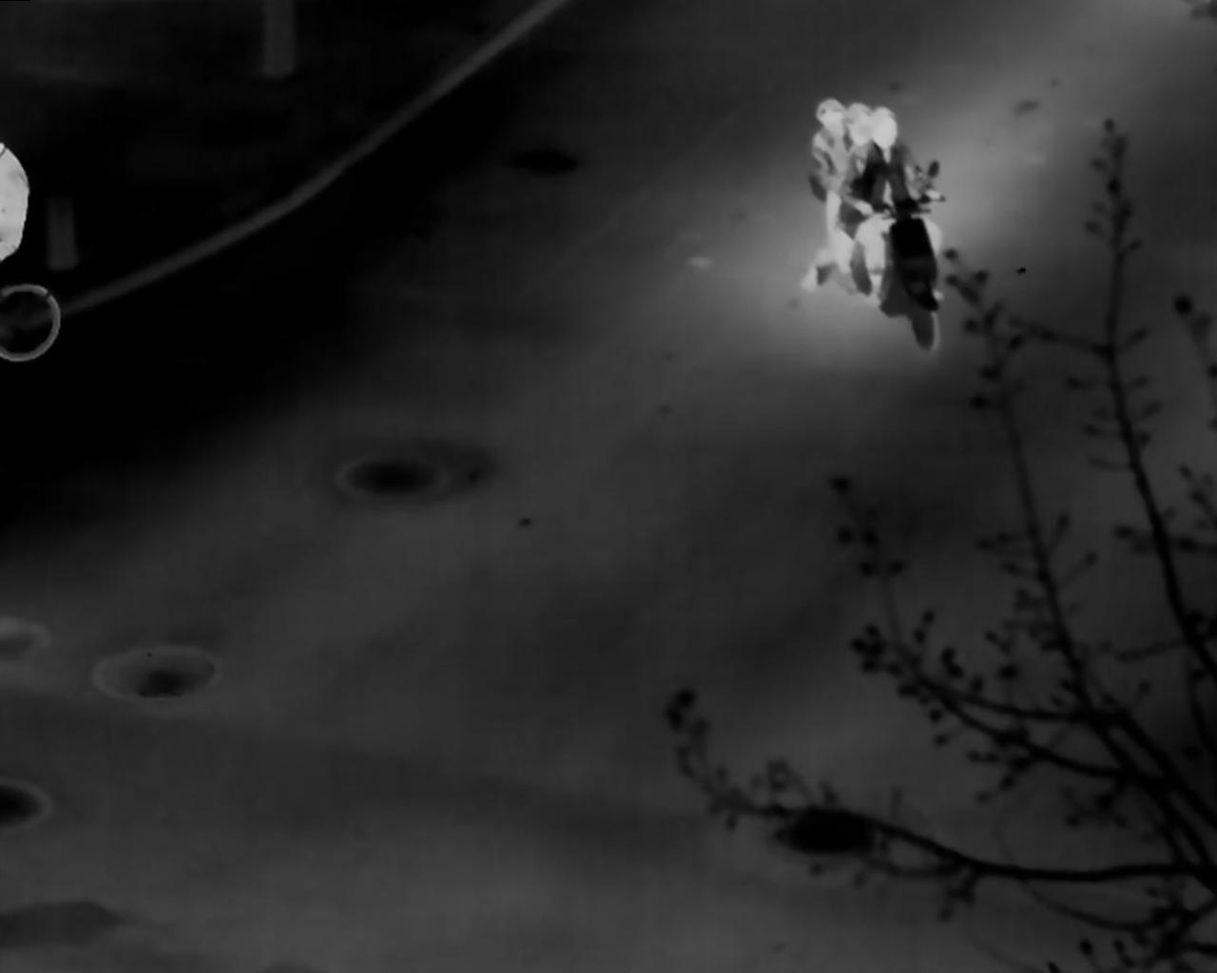person: (840, 107, 945, 304), (801, 97, 860, 291)
